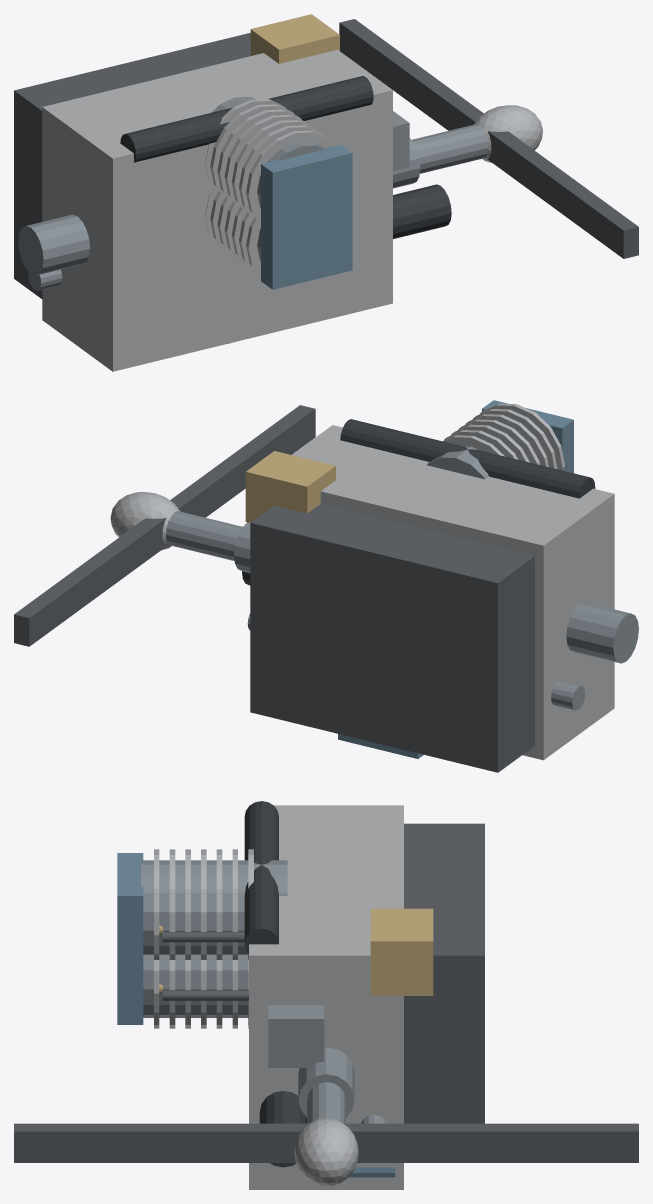
The model's file is C172_Engine_Exploded_Training.glb.
3 renders of one model, top to bottom at view 1: azimuth 30°, elevation 25°; view 2: azimuth 150°, elevation 25°; view 3: azimuth 270°, elevation 25°, orthographic. The views are drawn at different scales.
Parts seen in each view (by area): view 1: ENGINE_BLOCK_crankcase, ENGINE_OIL_SUMP, PROPELLER_BLADE_1, CYLINDER_4_valve_cover, CYLINDER_3_valve_cover, ENGINE_INTAKE_MANIFOLD, PROPELLER_BLADE_-1, CRANKSHAFT_main, CARBURETOR_or_fuel_servo_illustrative, PROPELLER_SHAFT, ENGINE_STARTER, PROPELLER_SPINNER (+11 smaller); view 2: ENGINE_OIL_SUMP, ENGINE_BLOCK_crankcase, PROPELLER_BLADE_-1, ENGINE_INTAKE_MANIFOLD, PROPELLER_BLADE_1, CARBURETOR_or_fuel_servo_illustrative, CRANKSHAFT_main, PROPELLER_SHAFT, PROPELLER_SPINNER, CYLINDER_4_valve_cover, CYLINDER_4_barrel, CYLINDER_4_cooling_fin_6 (+8 smaller); view 3: ENGINE_BLOCK_crankcase, ENGINE_OIL_SUMP, PROPELLER_BLADE_-1, PROPELLER_BLADE_1, CYLINDER_4_barrel, CARBURETOR_or_fuel_servo_illustrative, ENGINE_INTAKE_MANIFOLD, CYLINDER_3_barrel, ENGINE_ALTERNATOR, PROPELLER_SPINNER, CYLINDER_4_valve_cover, CRANKSHAFT_main (+11 smaller).
Boxes of the visible parts, <box> form: ENGINE_BLOCK_crankcase: <box>42,50,392,371</box>; ENGINE_OIL_SUMP: <box>14,33,250,298</box>; PROPELLER_BLADE_1: <box>487,131,638,258</box>; CYLINDER_4_valve_cover: <box>261,144,352,235</box>; CYLINDER_3_valve_cover: <box>261,206,352,289</box>; ENGINE_INTAKE_MANIFOLD: <box>120,76,373,162</box>; PROPELLER_BLADE_-1: <box>339,19,483,130</box>; CRANKSHAFT_main: <box>18,138,420,275</box>; CARBURETOR_or_fuel_servo_illustrative: <box>250,14,339,63</box>; PROPELLER_SHAFT: <box>412,124,488,173</box>; ENGINE_STARTER: <box>393,184,451,238</box>; PROPELLER_SPINNER: <box>473,105,542,163</box>; ENGINE_OIL_SUMP: <box>250,504,534,772</box>; ENGINE_BLOCK_crankcase: <box>292,425,614,760</box>; PROPELLER_BLADE_-1: <box>14,518,166,646</box>; ENGINE_INTAKE_MANIFOLD: <box>340,419,595,498</box>; PROPELLER_BLADE_1: <box>170,405,315,517</box>; CARBURETOR_or_fuel_servo_illustrative: <box>245,451,335,522</box>; CRANKSHAFT_main: <box>234,522,638,663</box>; PROPELLER_SHAFT: <box>165,511,242,560</box>; PROPELLER_SPINNER: <box>110,492,180,550</box>; CYLINDER_4_valve_cover: <box>482,400,573,473</box>; CYLINDER_4_barrel: <box>427,446,488,479</box>; CYLINDER_4_cooling_fin_6: <box>480,403,564,470</box>; ENGINE_BLOCK_crankcase: <box>249,805,403,1189</box>; ENGINE_OIL_SUMP: <box>404,823,484,1123</box>; PROPELLER_BLADE_-1: <box>344,1123,638,1162</box>; PROPELLER_BLADE_1: <box>14,1123,308,1162</box>; CYLINDER_4_barrel: <box>141,860,287,954</box>; CARBURETOR_or_fuel_servo_illustrative: <box>370,908,433,995</box>; ENGINE_INTAKE_MANIFOLD: <box>244,801,278,953</box>; CYLINDER_3_barrel: <box>143,954,248,1017</box>; ENGINE_ALTERNATOR: <box>268,1005,324,1067</box>; PROPELLER_SPINNER: <box>294,1118,358,1186</box>; CYLINDER_4_valve_cover: <box>117,853,143,960</box>; CRANKSHAFT_main: <box>298,1047,354,1117</box>.
Bounding box in the file's own units: 3 × 1.46 × 2.9.
